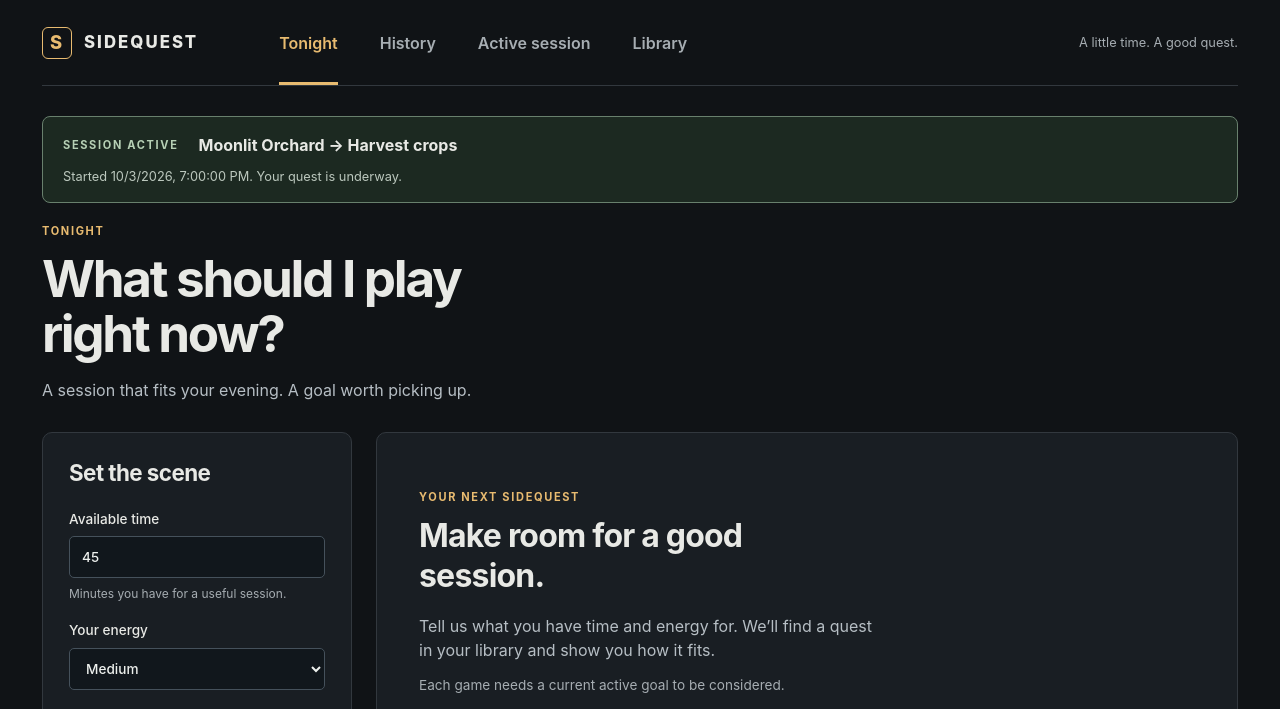
Active and finish › recovers the full active view and saved evidence from the backend
Step 1. Click the button "Active session" → (534,42), box [462,0,607,85]
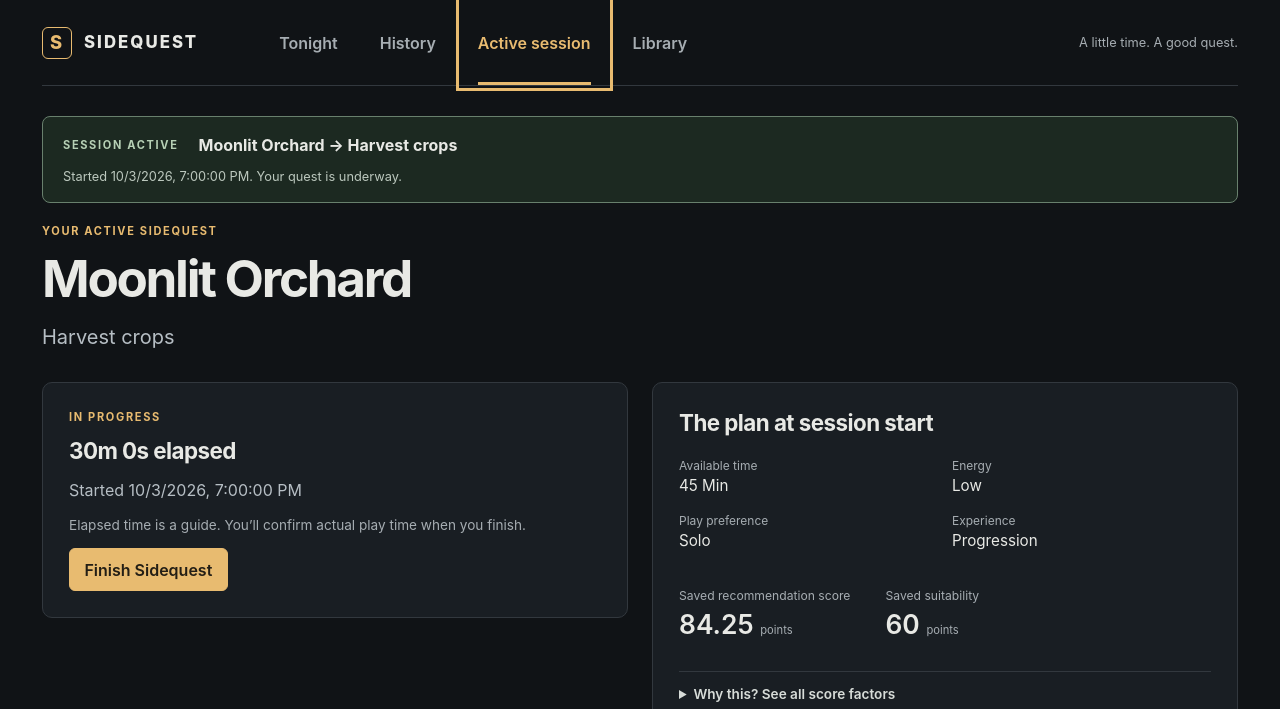
Expected: the heading "Moonlit Orchard" is shown, [42,247,411,309]
Expected: the text "Harvest crops" is shown, [42,325,175,349]
Expected: the heading "30m 0s elapsed" is shown, [69,437,236,464]
Step 2. Click the heading "Why this? See all score factors" → (794,694), box [693,686,895,702]
(page scrolled)
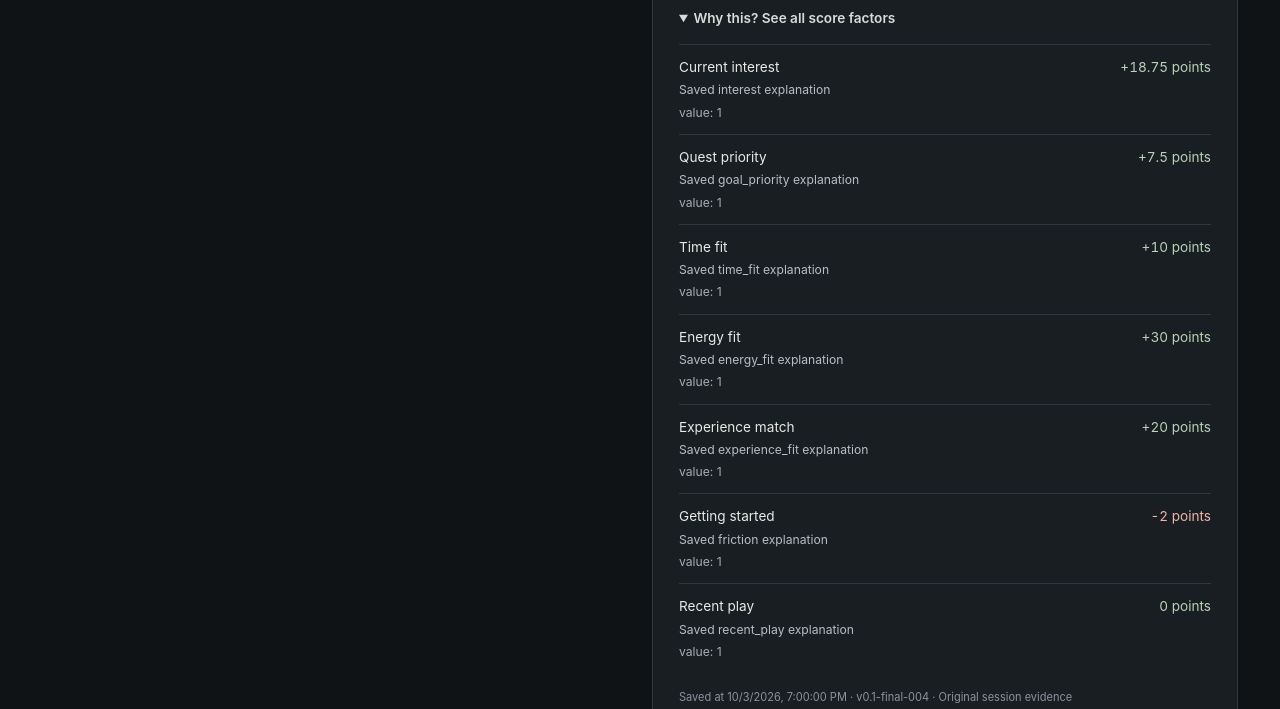
Expected: the text "Saved energy_fit explanation" is shown, [679,352,844,367]
